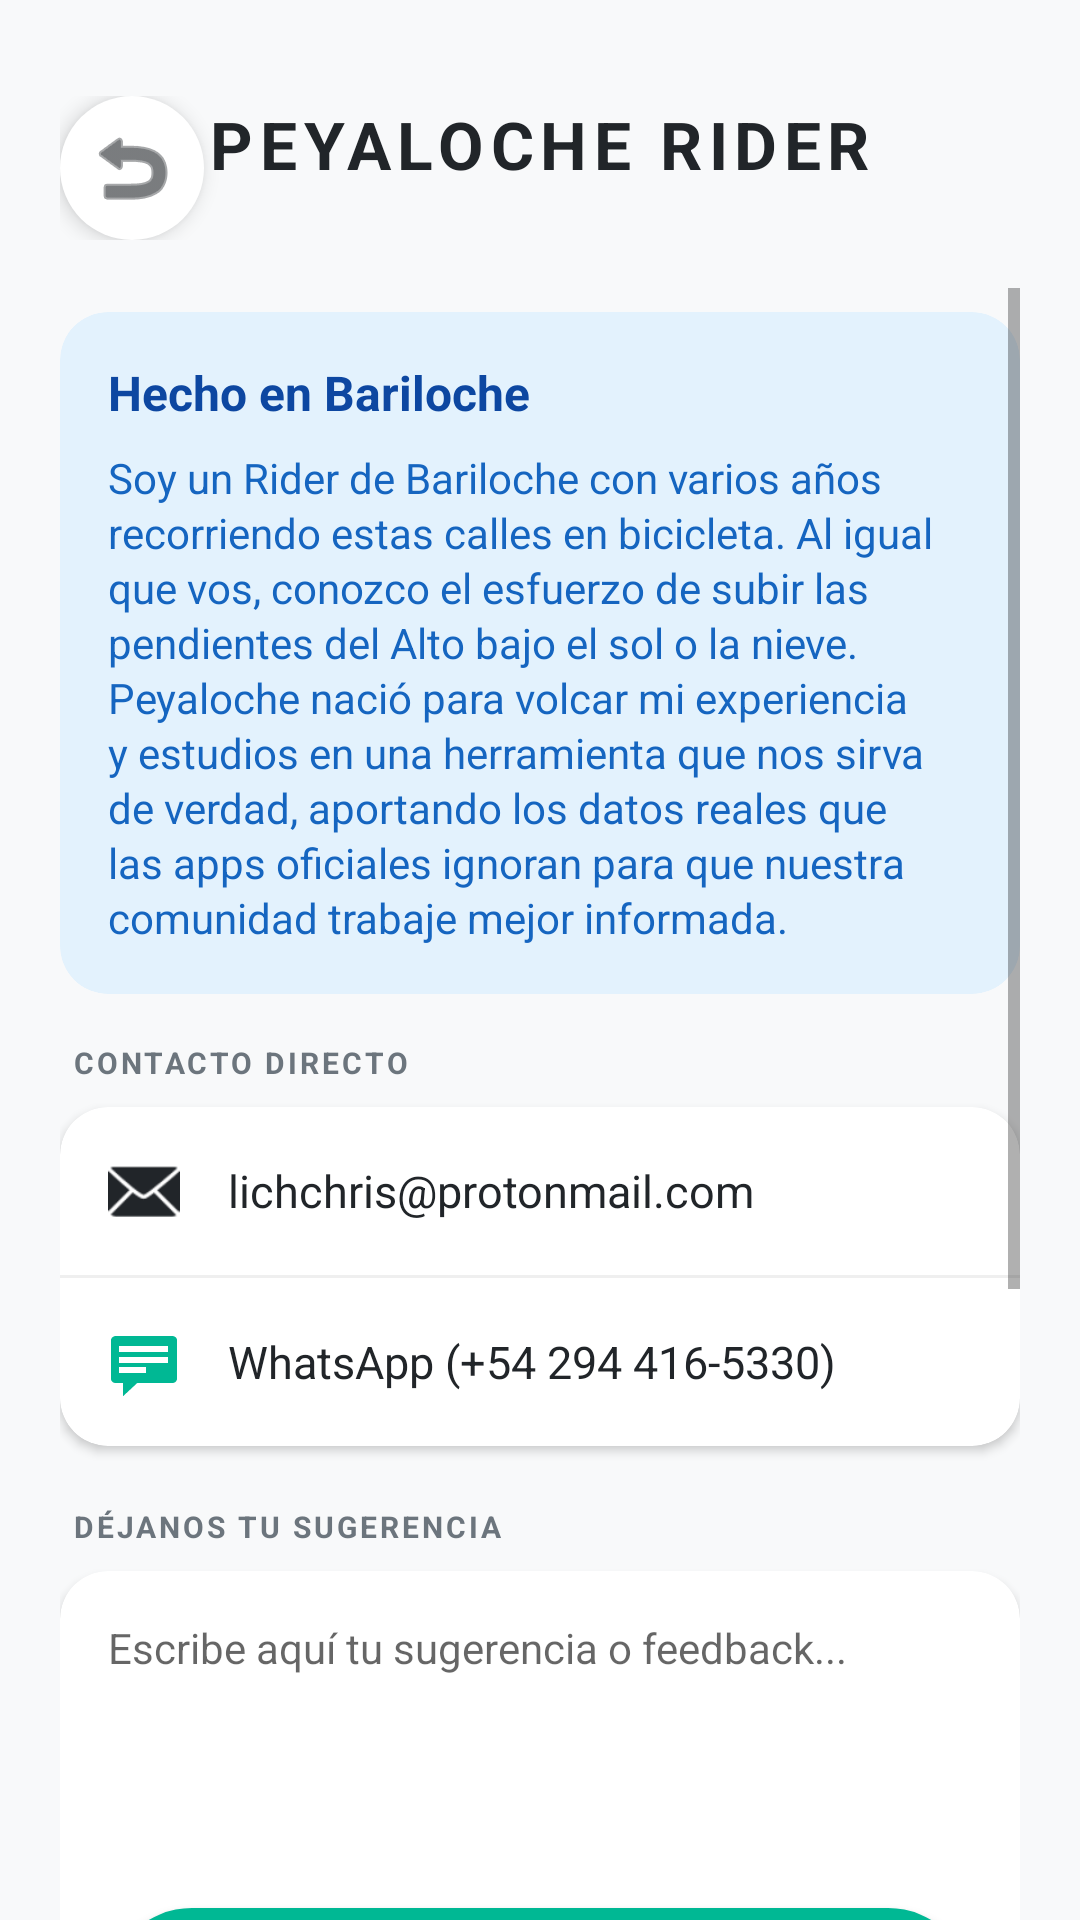

Locate icon controls on the screen. Image size 1080 × 1920, boxes as [x1,y1,x2,y2].
chat: [111,1336,177,1396]
email: [108,1166,180,1217]
revert: [60,122,168,240]
